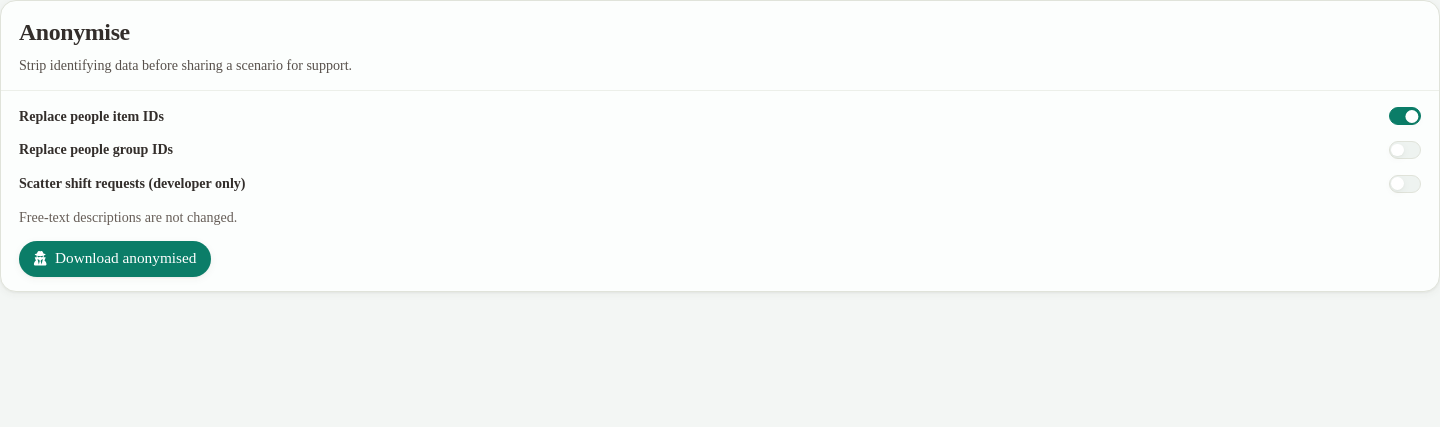
Test: AnonymiseCard — a blocked download reads as an export, not a save › labels the blocking-issue list with the export clause
Click the switch with test id "anonymise-toggle-scatter": (1405, 184) x1=1389 y1=175 x2=1421 y2=193
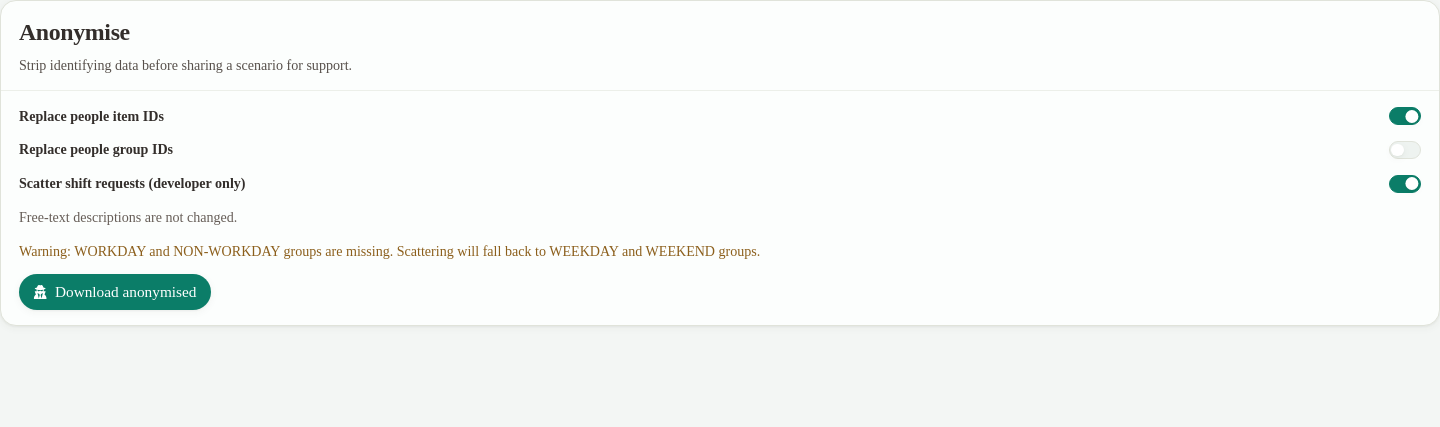
Click the button with test id "anonymise-download-button": (115, 292) x1=19 y1=274 x2=211 y2=310
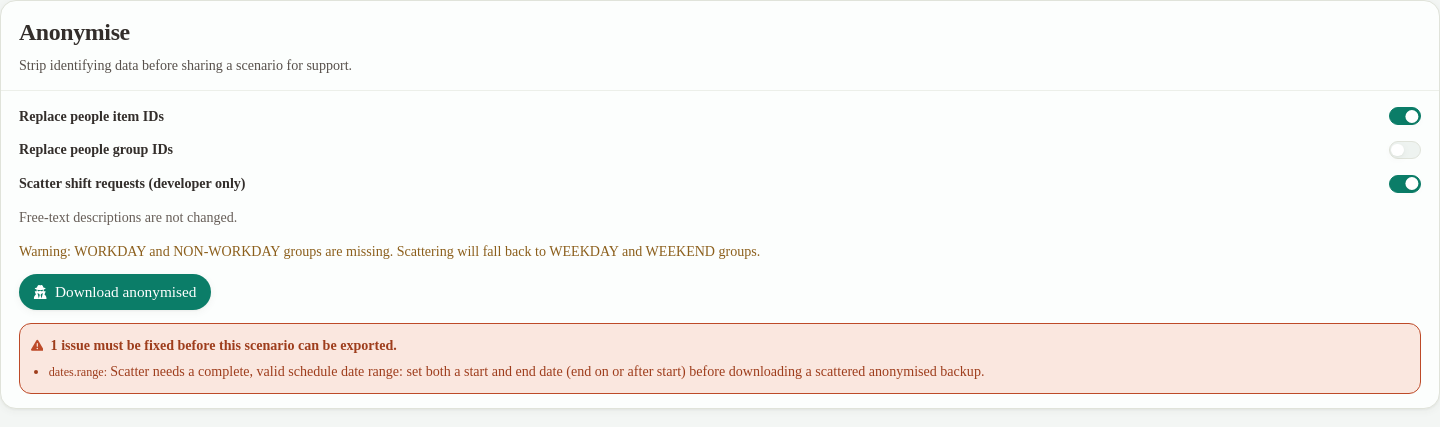
Expected: the element with test id "scenario-export-issues" does not show "can be saved", x1=19 y1=323 x2=1421 y2=394
Expected: the element with test id "scenario-export-issues" shows "must be fixed before this scenario can be exported.", x1=19 y1=323 x2=1421 y2=394
